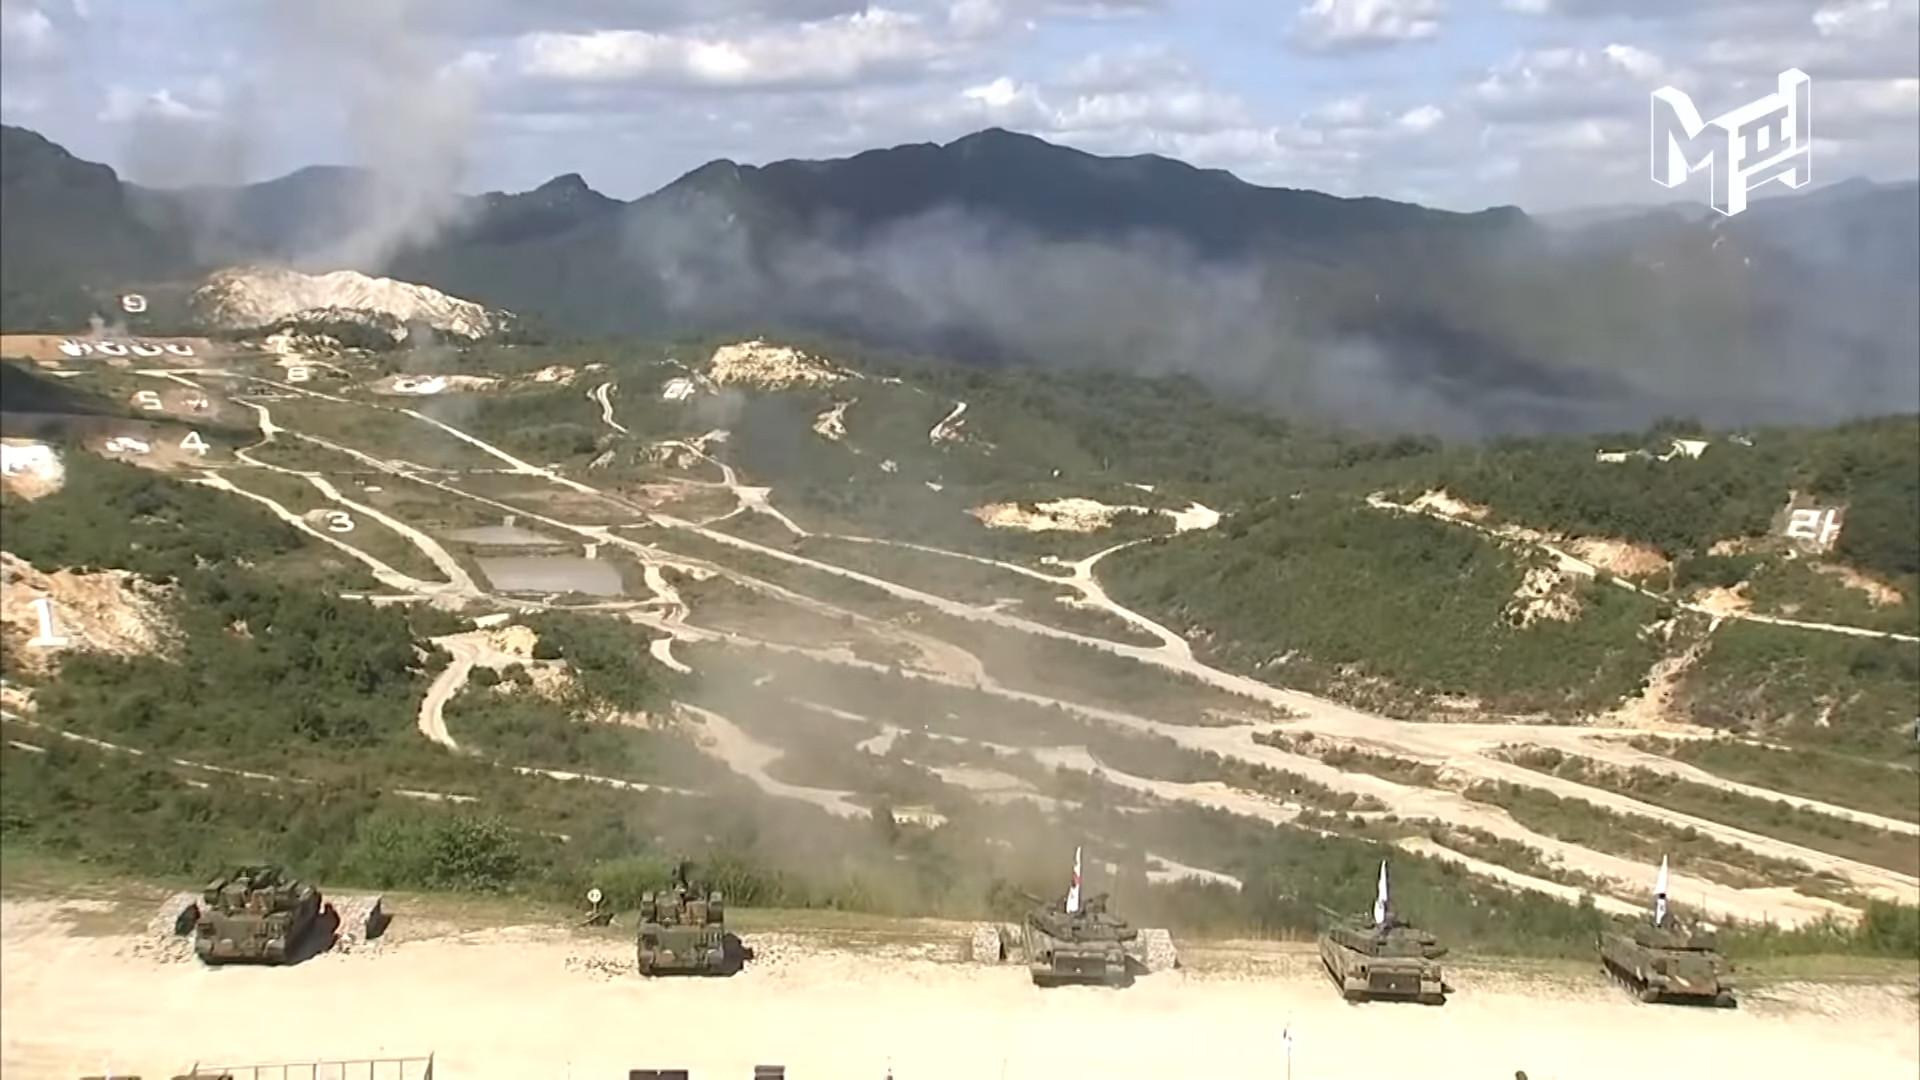tank: (1313, 897, 1449, 1004), (1598, 913, 1737, 1006), (195, 864, 320, 965), (1013, 886, 1137, 988), (636, 861, 725, 976)
